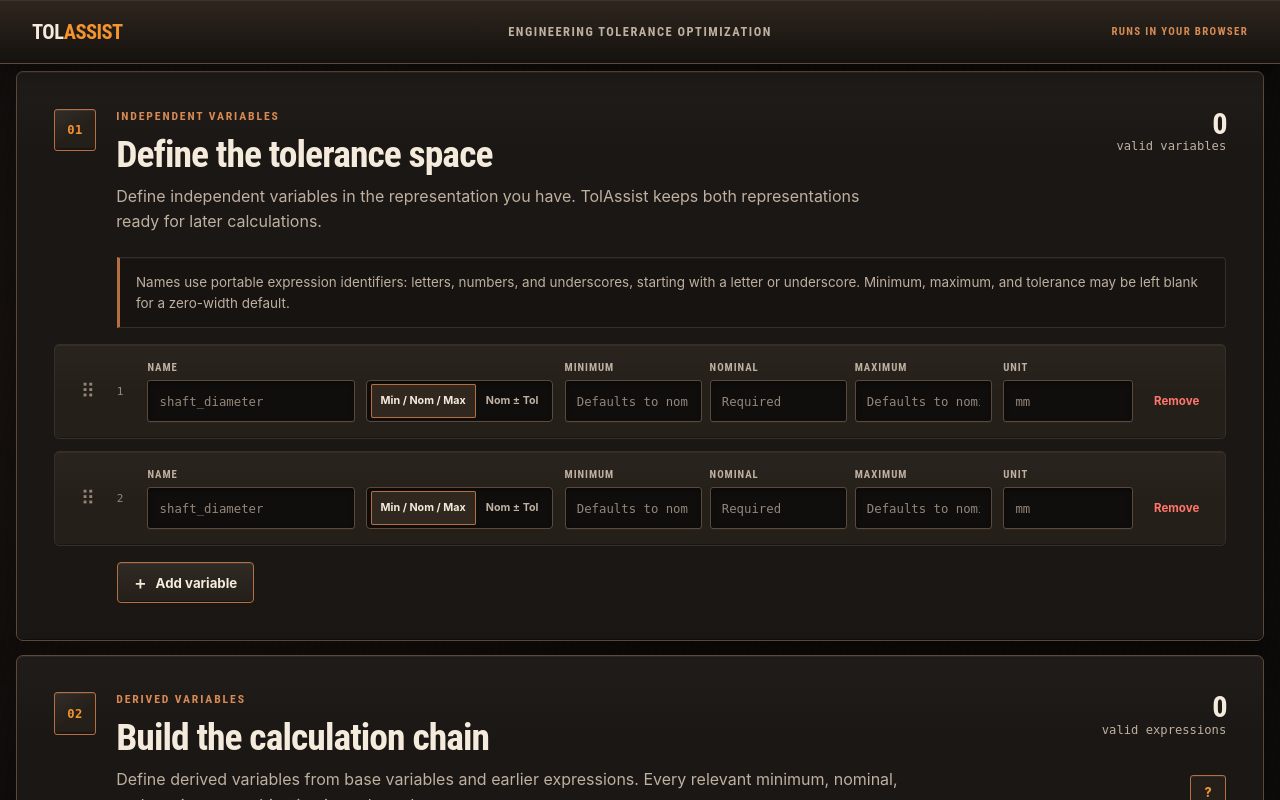
Test: App › keeps the previous snapshot when a later optimization fails
(page scrolled)
Step 1. Type "a" into the 1st field labelled "Name" → (251, 401), box [147,380,354,422]
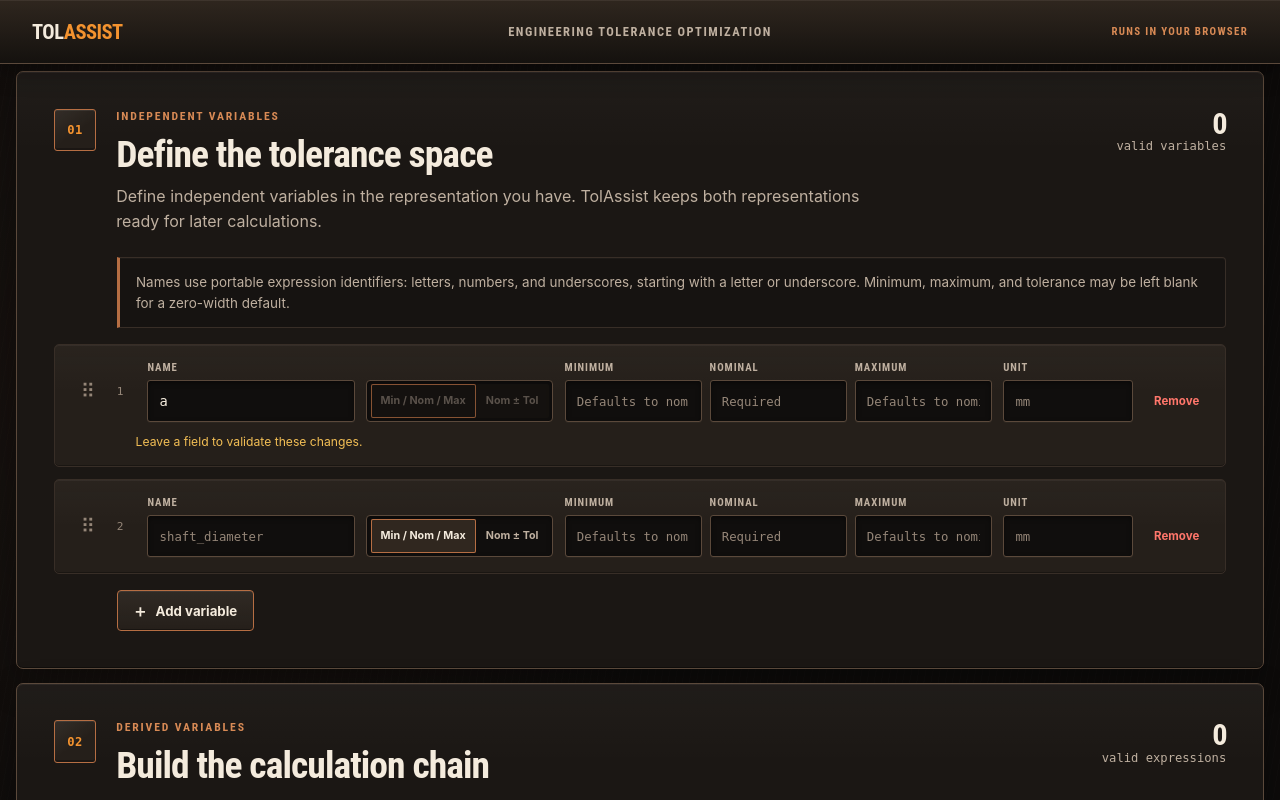
Step 2. Type "0" into the 1st field labelled "Minimum" → (633, 401), box [565,380,702,422]
Step 3. Type "5" into the 1st field labelled "Nominal" → (778, 401), box [710,380,847,422]
Step 4. Type "10" into the 1st field labelled "Maximum" → (923, 401), box [855,380,992,422]
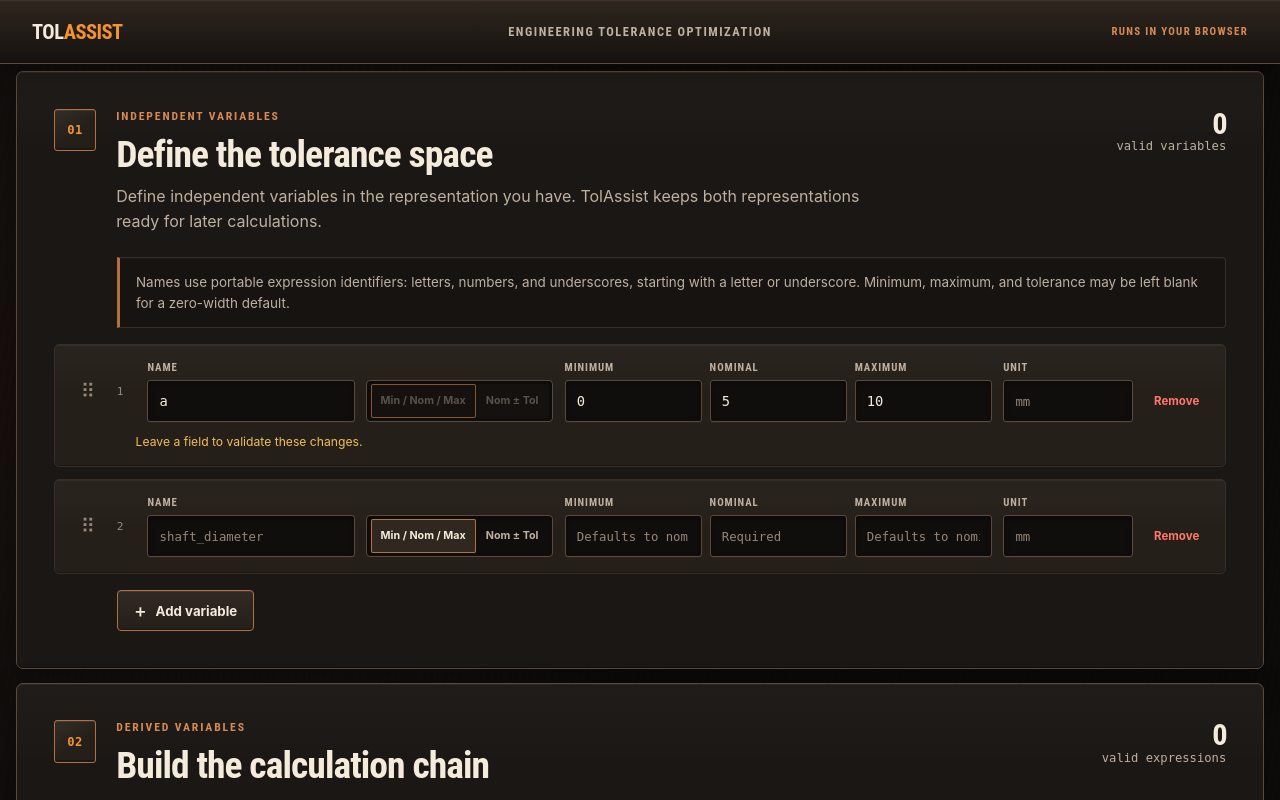
Step 5. Type "m" into the 1st field labelled "Unit" → (1068, 401), box [1003,380,1133,422]
(page scrolled)
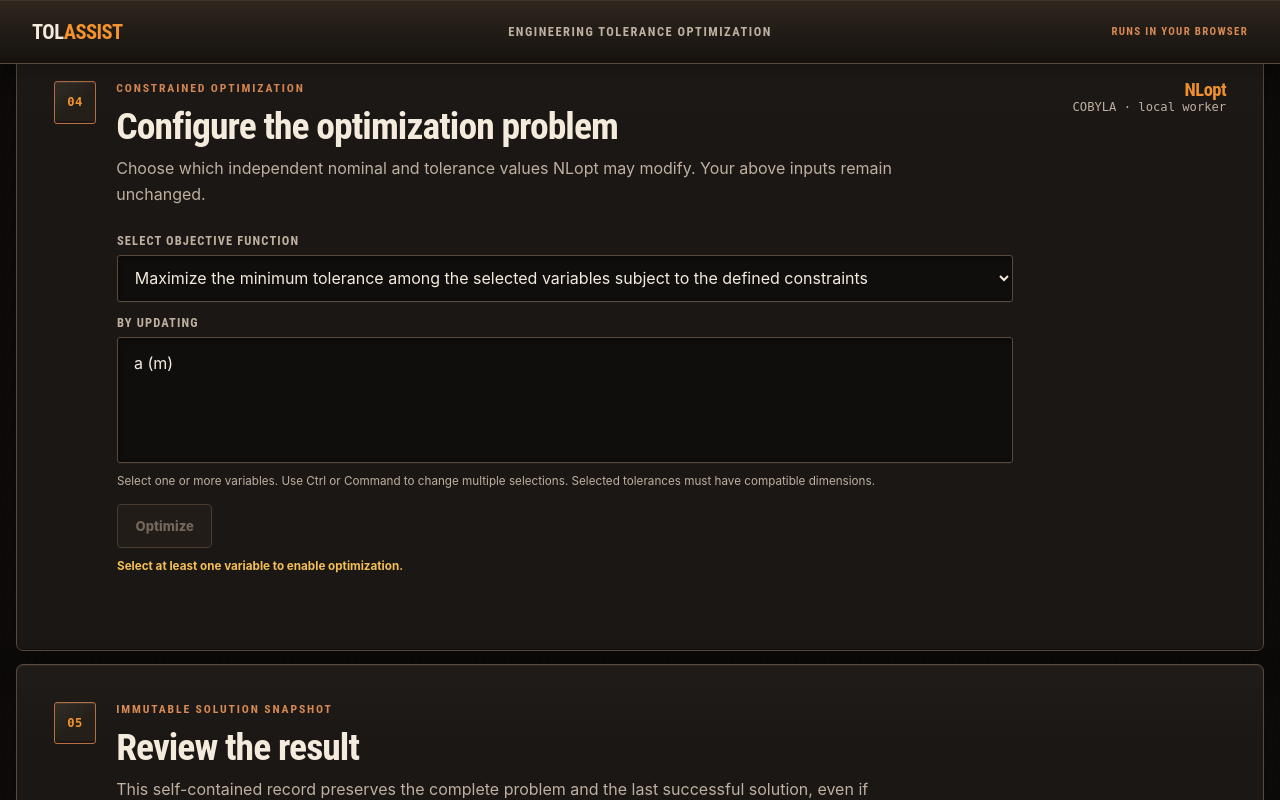
Step 6. Select "a (m)" in the dropdown labelled "by updating" → (565, 400), box [117,337,1013,463]
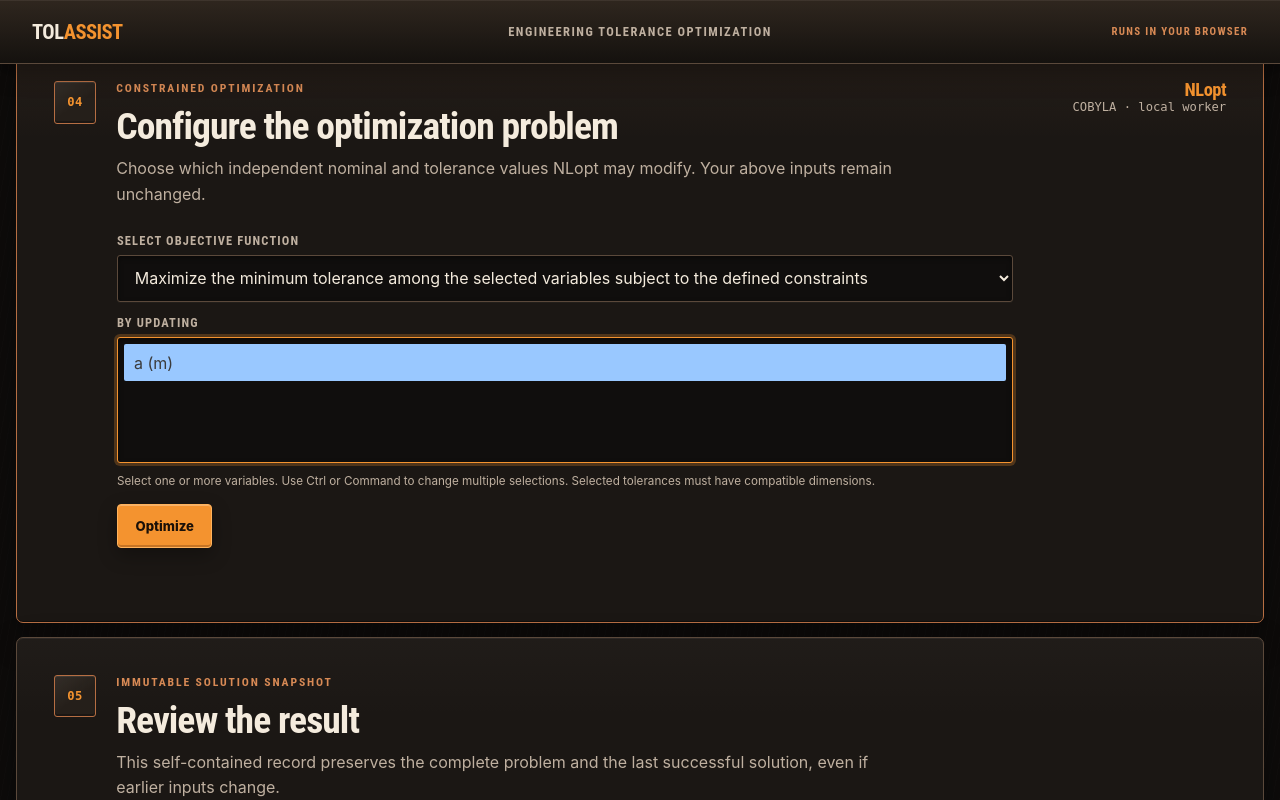
Step 7. Click the button "Optimize" → (165, 526), box [117,504,212,548]
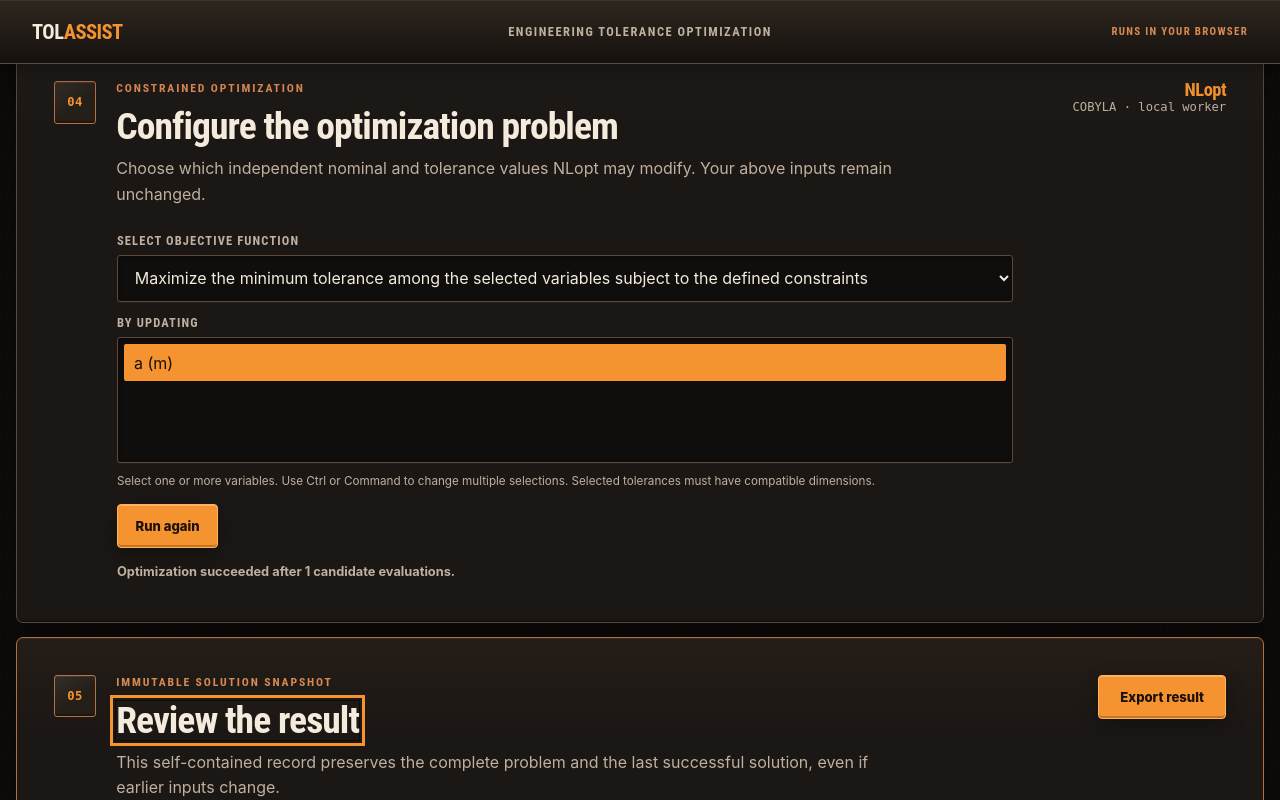
Step 8. Click the button "Run again" → (168, 526), box [117,504,218,548]
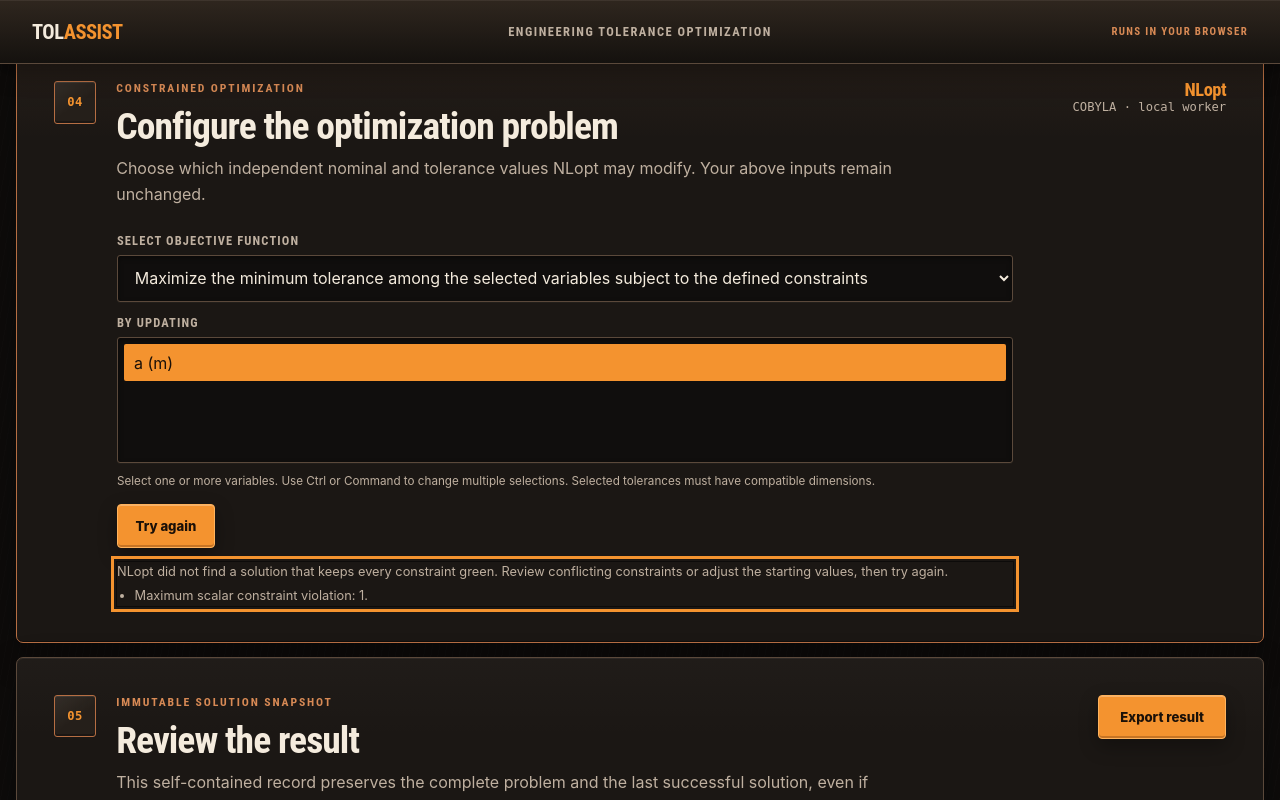
Expected: the button "Export result" is shown, [1098,695,1226,739]
Expected: the text "did not find a solution that keeps every constraint green" is shown, [117,564,948,579]
